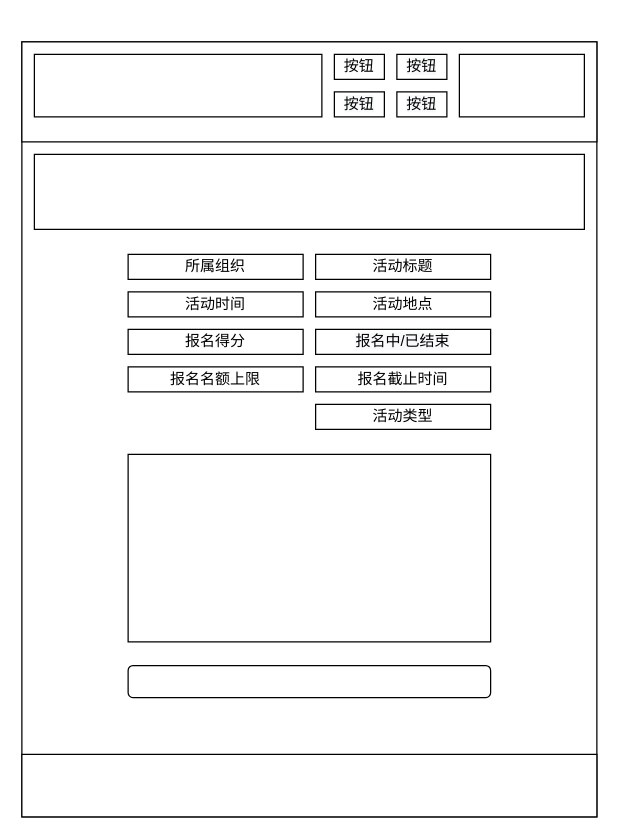
Some shapes in this 619 by 839 pixel diagram are drawn without their labels. Here are the shapes that lost their labels. From the top down, the centre of each, then its label:
(177,85): 网站标题（文字+图片）
(521,85): 当前登录学生信息显示（跳转主页）
(308,191): 长图
(309,547): 活动详细内容
(309,681): 报名
(309,785): 底部导航栏&联系发邮件
